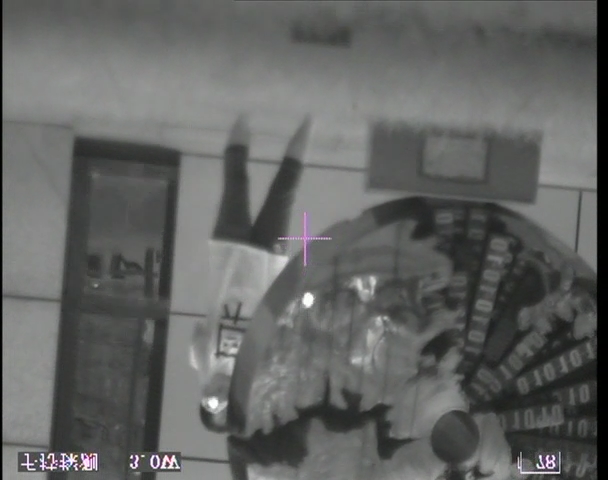my: (207, 396, 220, 410)
